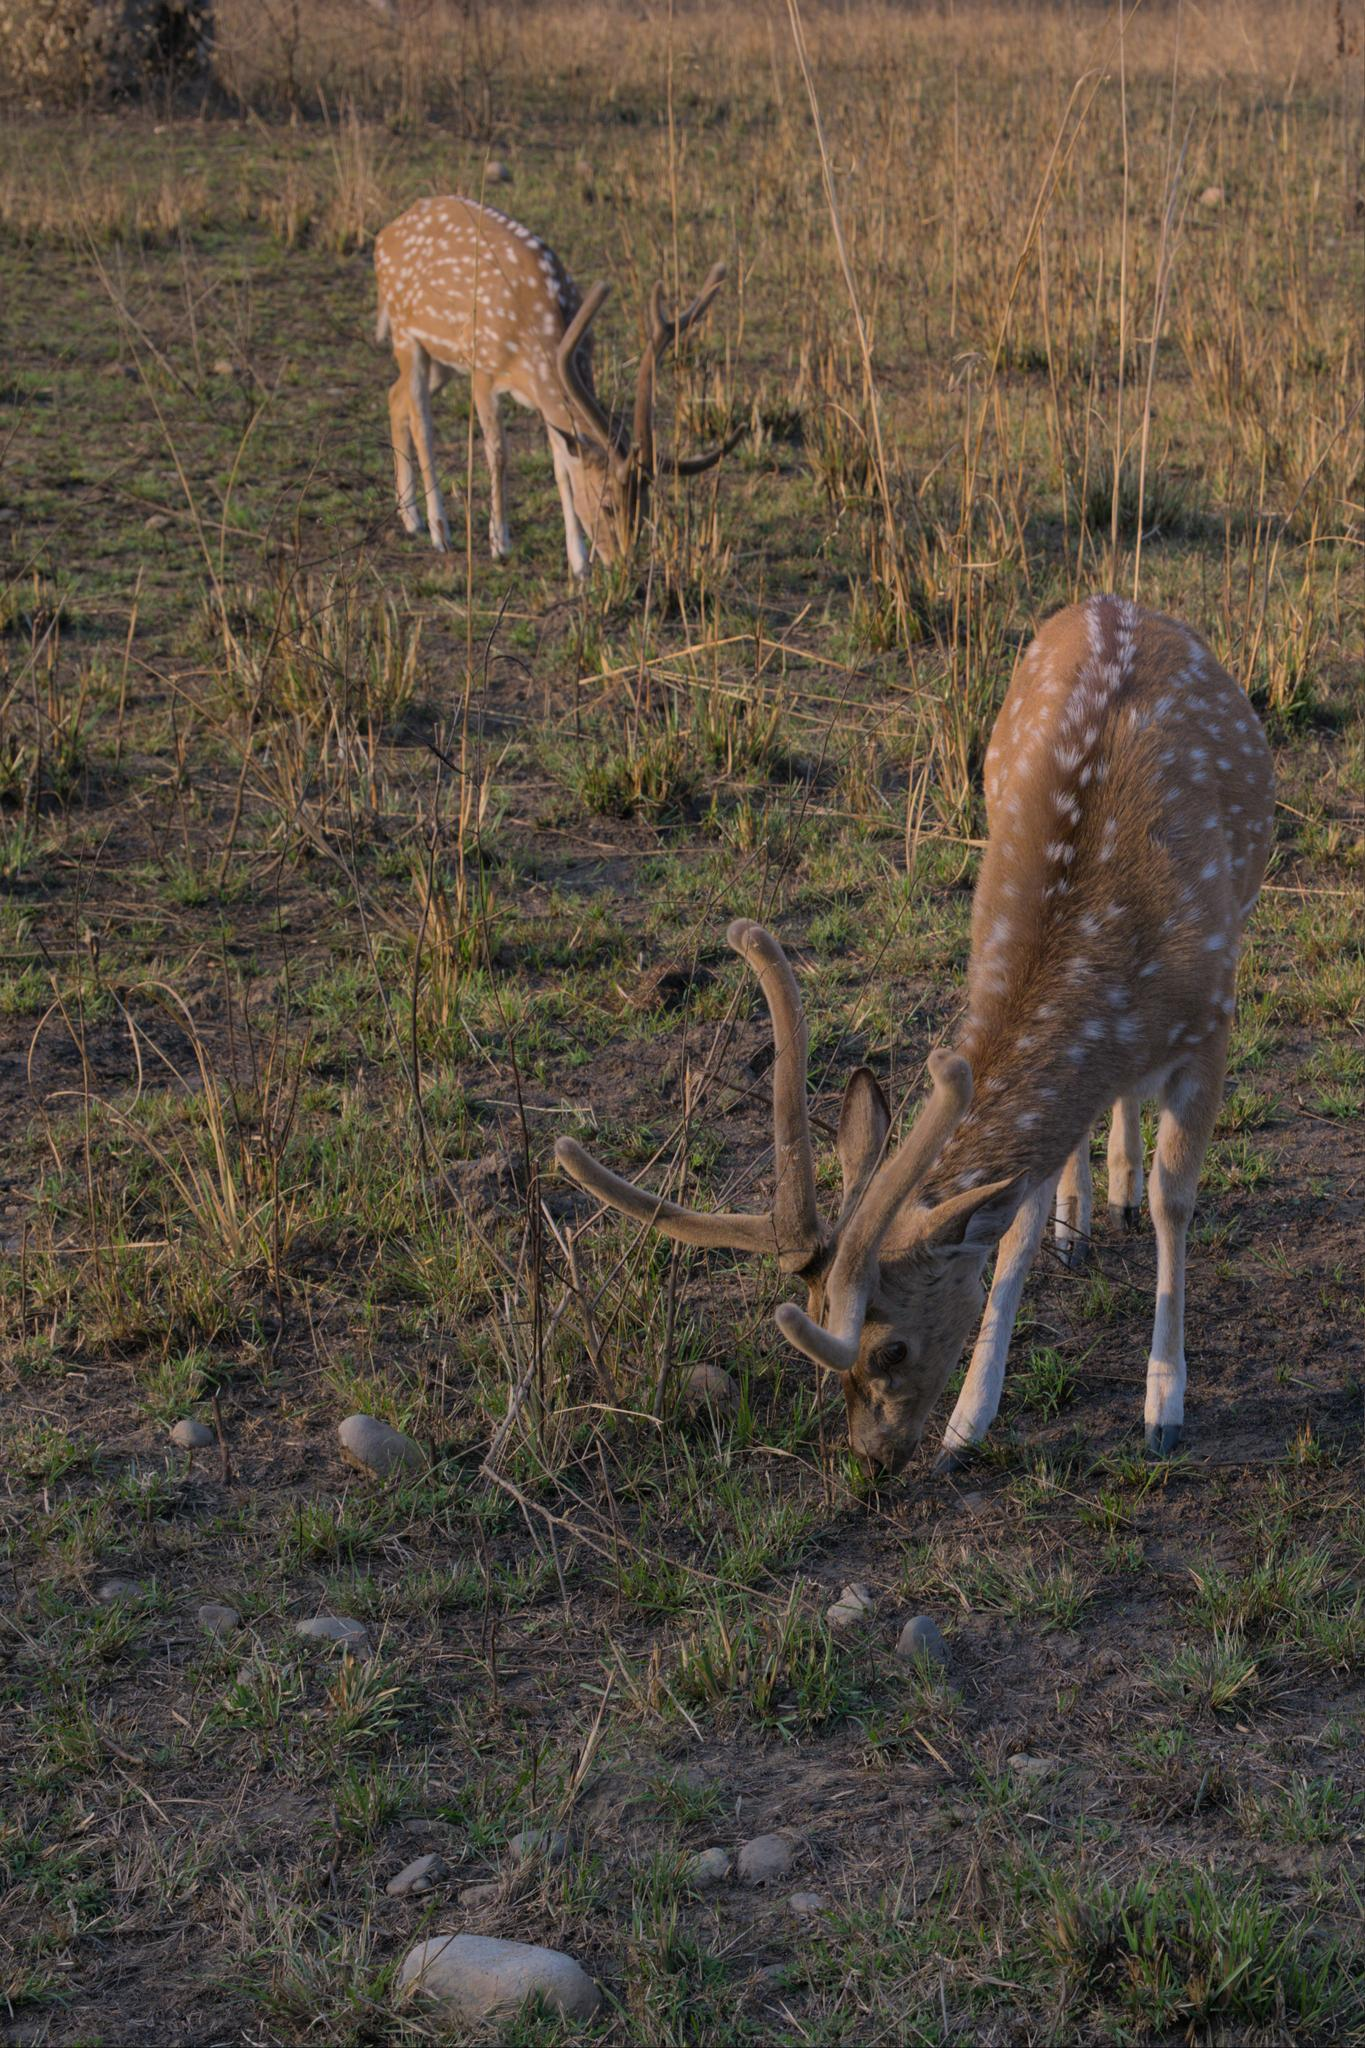Deer: (556, 595, 1274, 1468), (373, 196, 722, 577)
